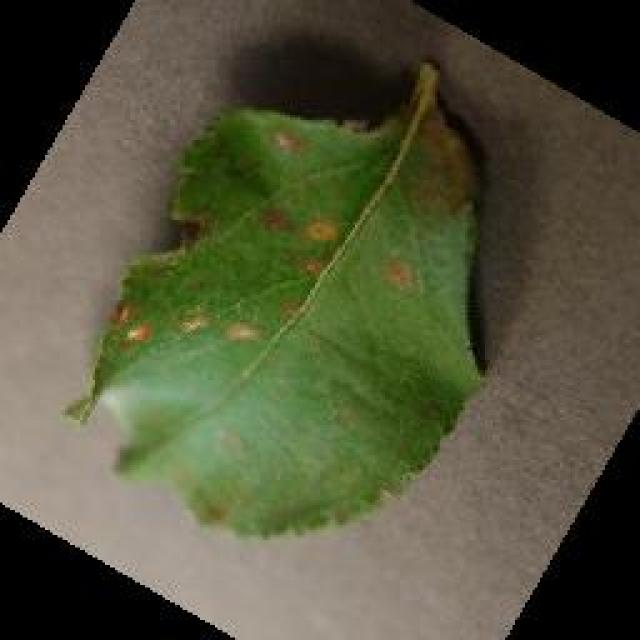apple healthy: (65, 55, 493, 540)
